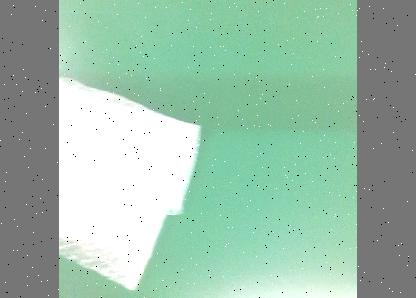Others: (60, 76, 202, 290)
